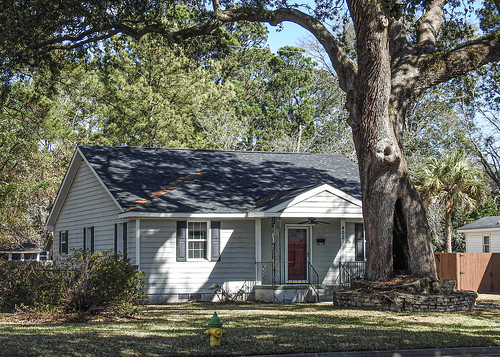low: (37, 139, 412, 310)
